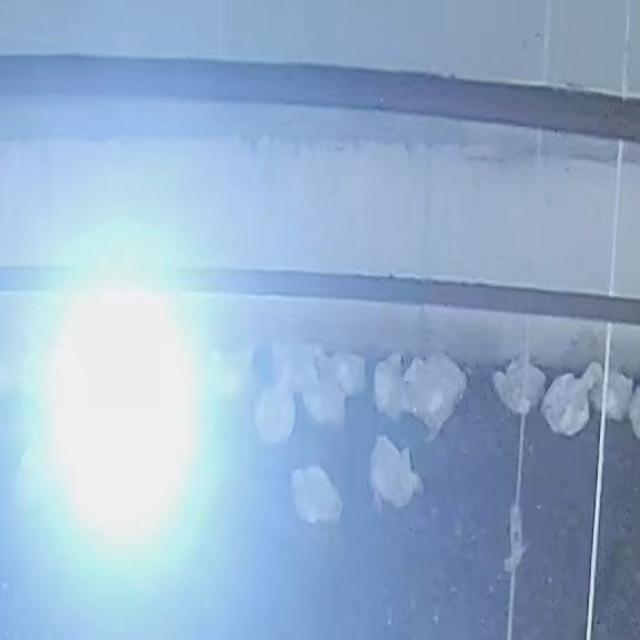chicken: (542, 371, 592, 435), (291, 467, 343, 524), (372, 442, 415, 509), (295, 371, 348, 424), (403, 351, 469, 393), (496, 359, 546, 414), (405, 376, 450, 432), (371, 354, 408, 420), (212, 345, 259, 395), (315, 346, 368, 390), (592, 364, 632, 418), (262, 383, 296, 443), (271, 337, 311, 379)
